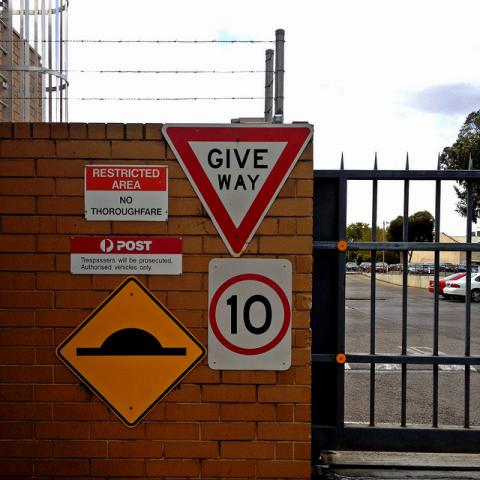car: (442, 272, 480, 302), (398, 260, 480, 273), (430, 271, 466, 297), (408, 262, 424, 274), (359, 261, 372, 274), (439, 263, 456, 272), (376, 262, 389, 272), (346, 263, 359, 271), (389, 265, 400, 271)
